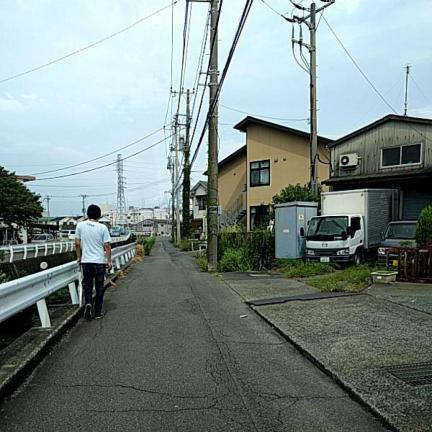Road: (0, 238, 385, 431)
